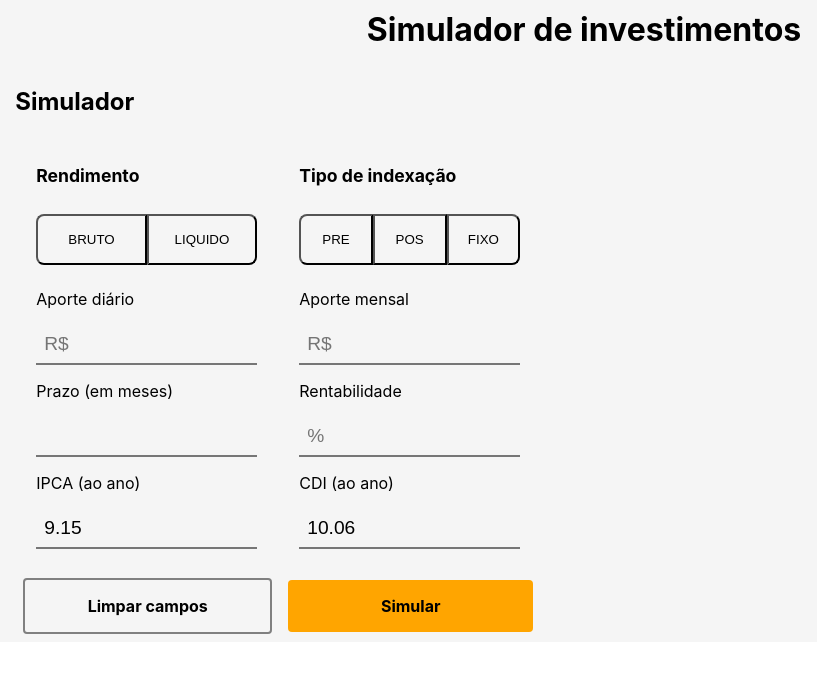
Test case: Ao inicializar o formulario › deve aparecer a label de erro dado um caracter digitado
Type "a" into the field with id "input__1--teste" at (147, 345), box [36, 325, 257, 365]
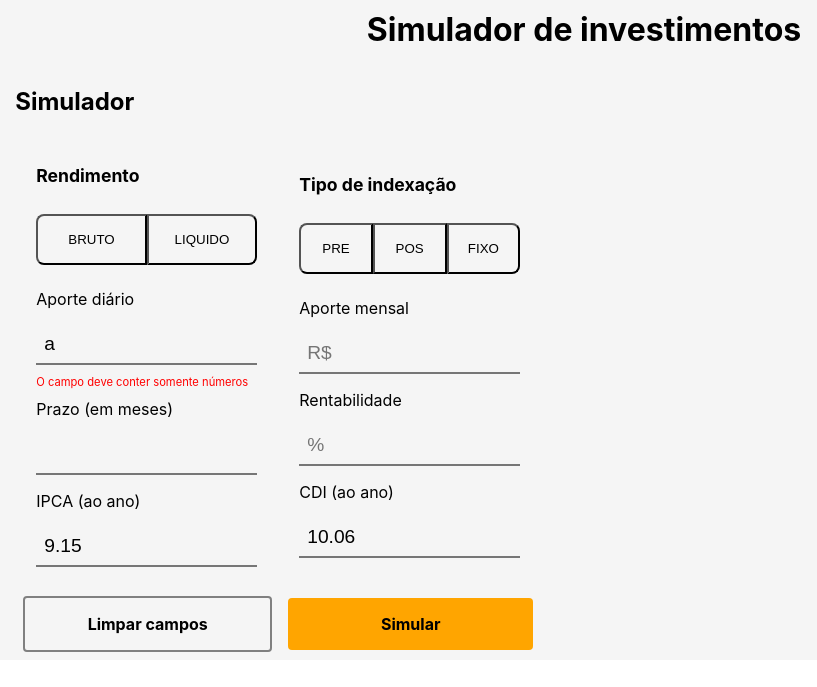
Type "b" into the field with id "input__2--teste" at (147, 455), box [36, 435, 257, 475]
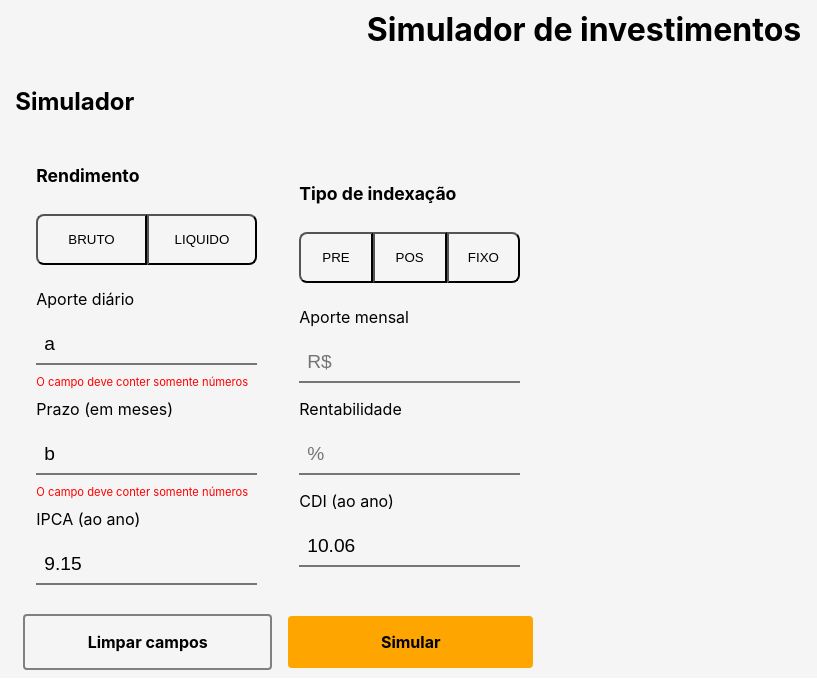
Now the text with id "label__1--teste" is shown, box [36, 375, 257, 389]
Now the text with id "label__2--teste" is shown, box [36, 485, 257, 499]
